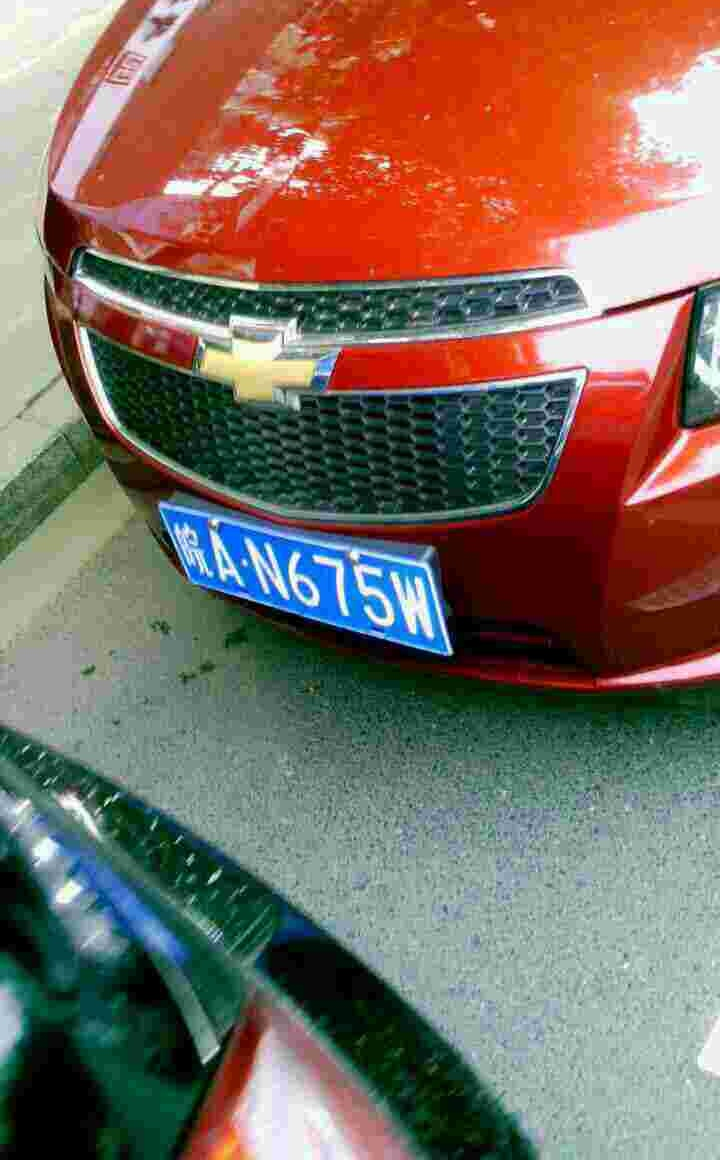license_plate: (159, 504, 457, 654)
